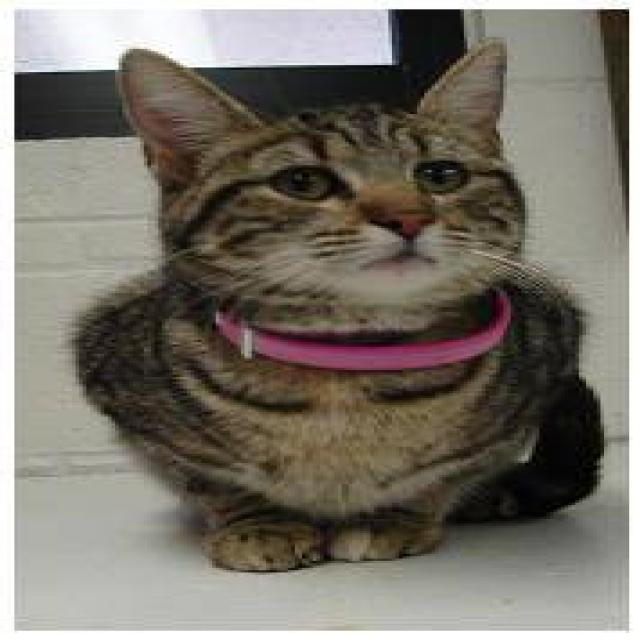cat: (68, 35, 604, 572)
